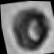correct: (5, 0, 54, 54)
